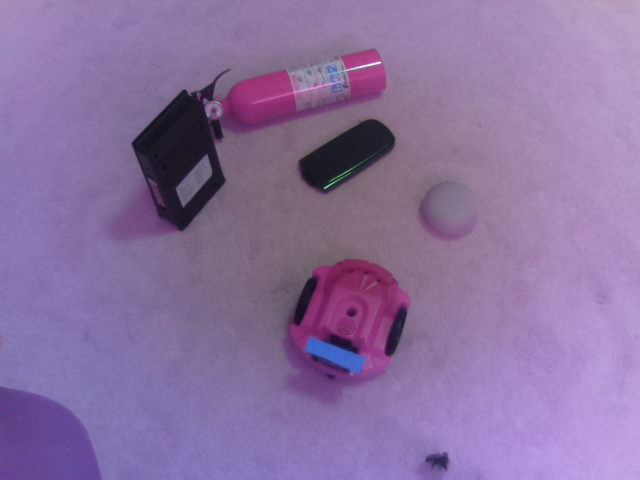board: (298, 333, 369, 376)
chassis: (284, 257, 415, 387)
